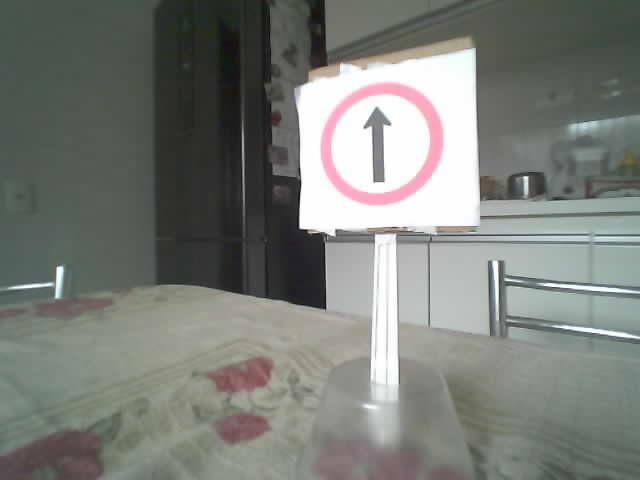R-26_frente: (320, 81, 443, 206)
